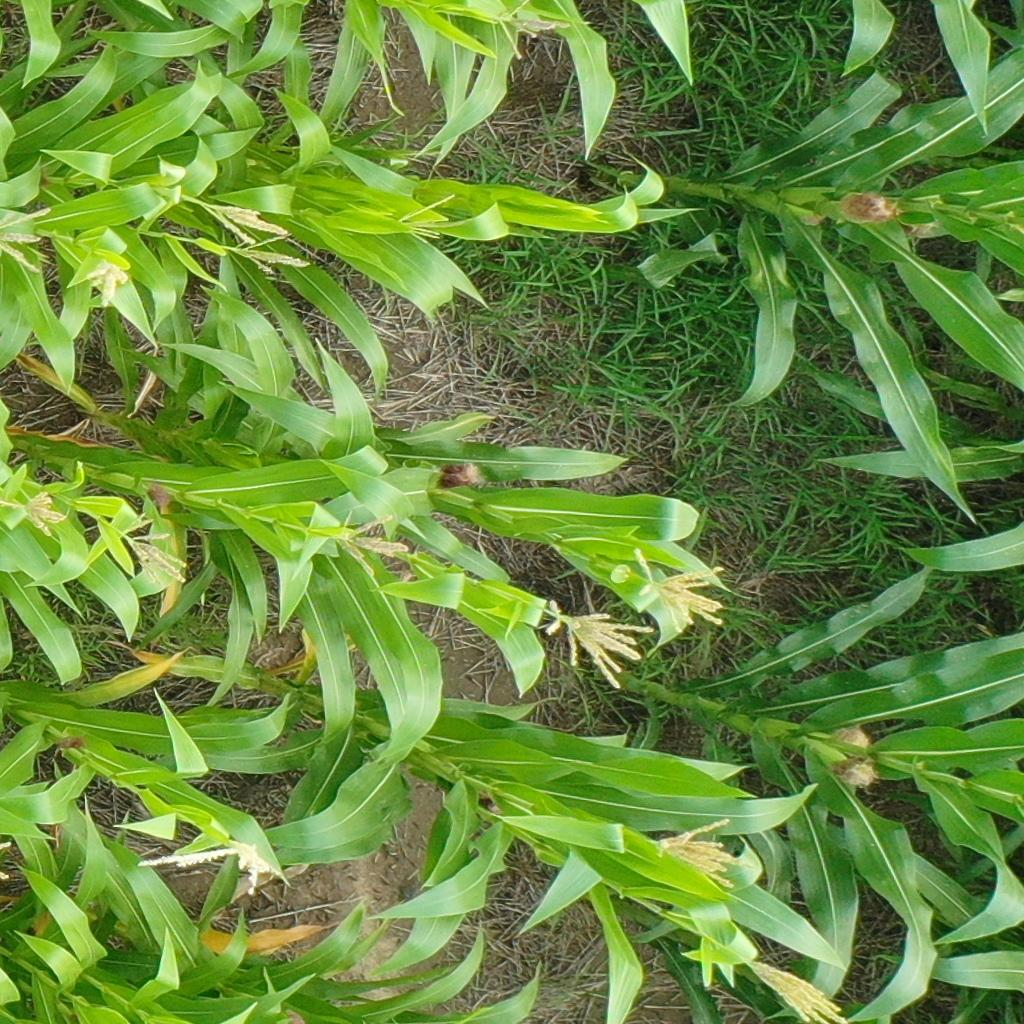Tassel: (542, 598, 653, 692), (131, 840, 288, 898), (631, 544, 730, 635), (647, 813, 757, 888), (738, 954, 849, 1024), (114, 509, 191, 589), (334, 508, 408, 582), (497, 1, 576, 63), (227, 232, 313, 276), (395, 188, 458, 248), (204, 200, 289, 244), (1, 205, 52, 276), (1, 489, 66, 536), (86, 260, 136, 307)
